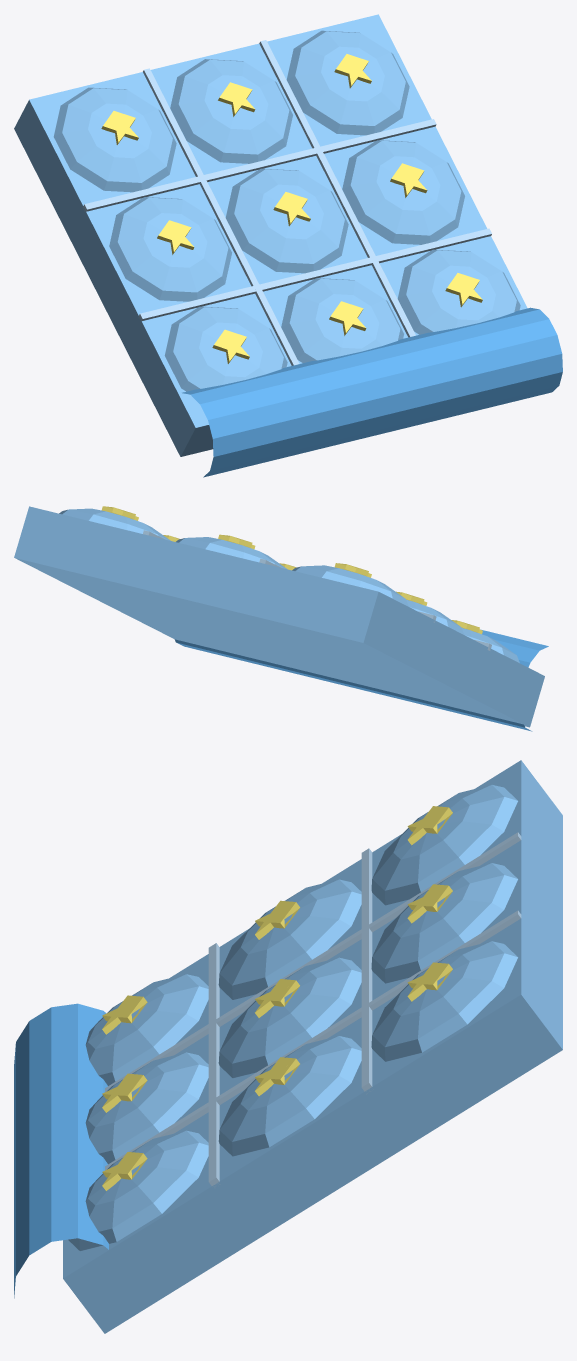
The model's file is tacke.glb.
3 views of the same model, one above another, from view 1: azimuth 30°, elevation 25°; view 2: azimuth 150°, elevation 25°; view 3: azimuth 270°, elevation 25° (orthographic). The views are drawn at different scales.
Visible parts, largest first — view 1: tacke; view 2: tacke; view 3: tacke.
Boxes of the visible parts, box(x1,y1,x2,y2) form: tacke: box(14, 14, 562, 477); tacke: box(14, 506, 548, 731); tacke: box(14, 760, 562, 1333).
Size of the model in its own units: 0.6 by 0.4251 by 0.5933.
